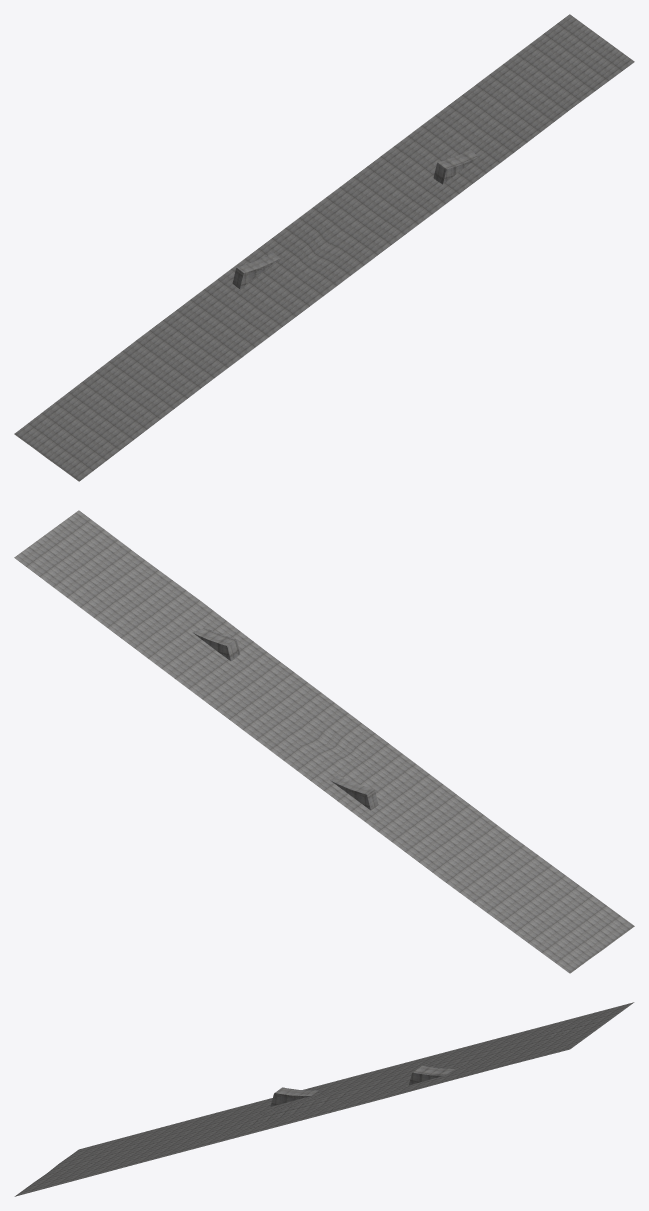
Rendered from SM_ICE_01_02.fbx.
3 renders of one model, top to bottom at view 1: azimuth 30°, elevation 25°; view 2: azimuth 150°, elevation 25°; view 3: azimuth 330°, elevation 25°, orthographic.
Visible parts, largest first — view 1: SM_ICE_01_02; view 2: SM_ICE_01_02; view 3: SM_ICE_01_02.
Part boxes in pixels (<box>): SM_ICE_01_02: <box>14,14,634,481</box>; SM_ICE_01_02: <box>14,510,634,973</box>; SM_ICE_01_02: <box>14,1002,634,1196</box>.
Size of the model in its own units: 16451 by 7993 by 3406.
